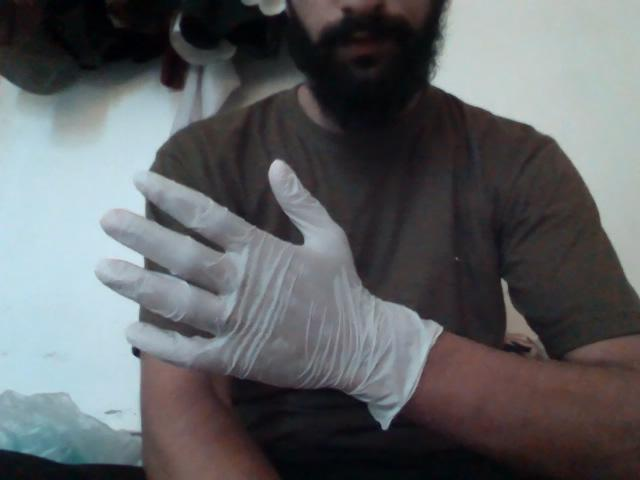gloves: (87, 154, 454, 448)
